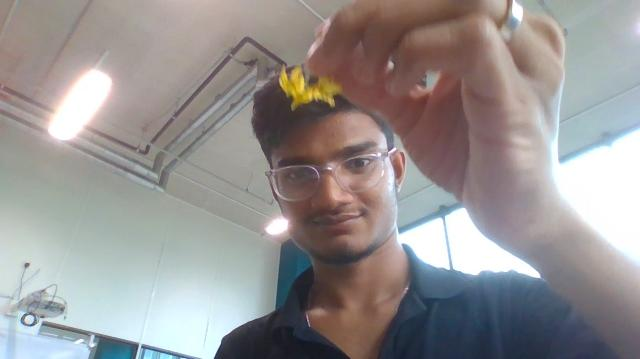Anthesis: (278, 64, 306, 105), (312, 75, 343, 106), (291, 89, 311, 110)
